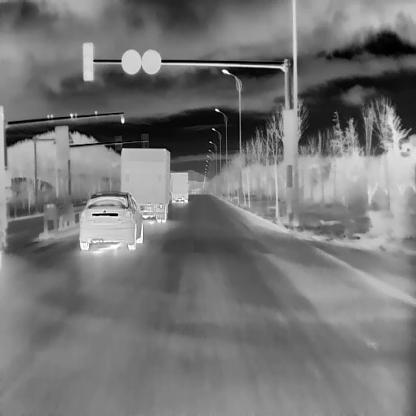car: (78, 190, 144, 249), (120, 146, 169, 221), (169, 172, 187, 203)
